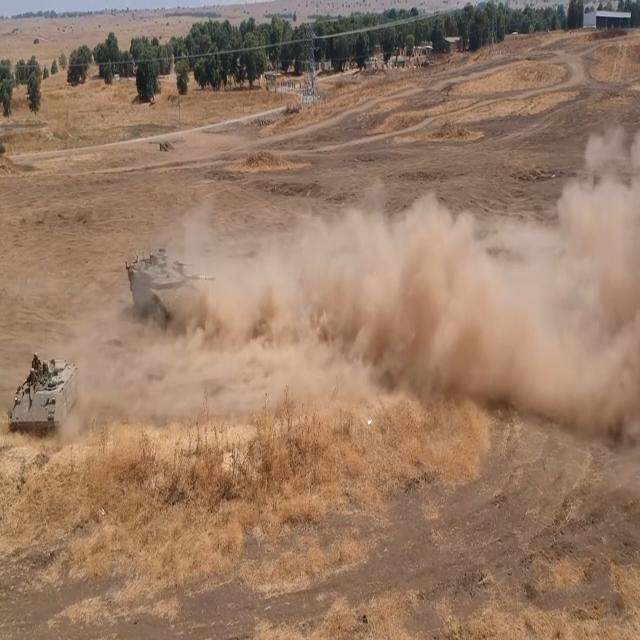tank: (124, 241, 222, 337)
